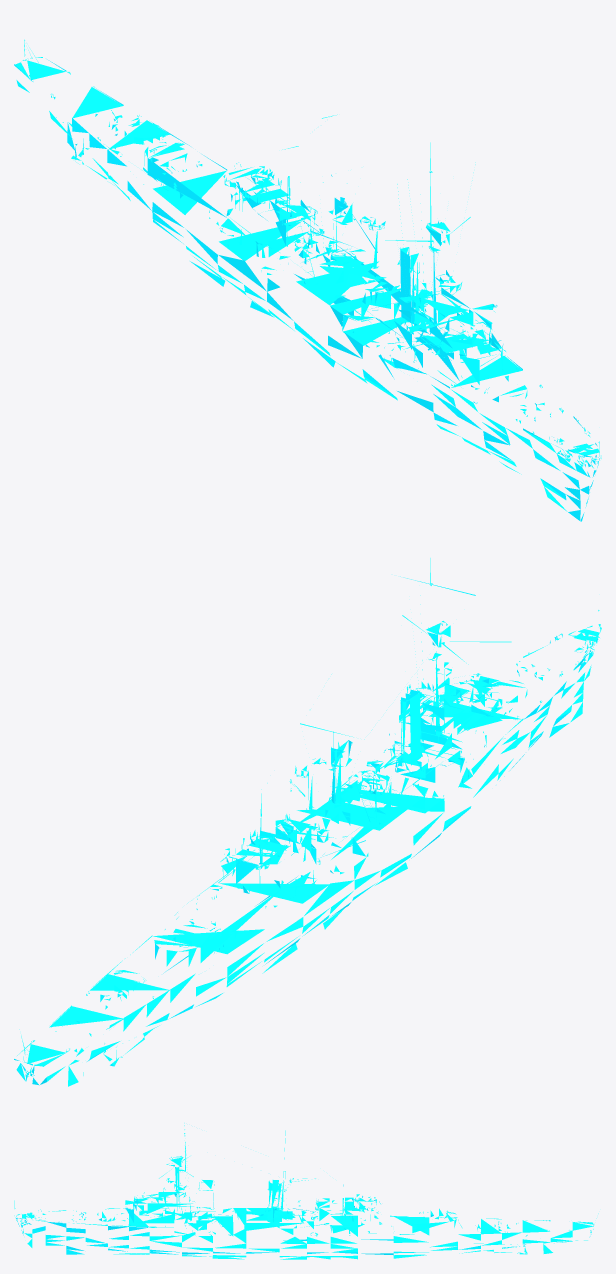
Rendered from Konigsberg.glb.
3 views of the same model, one above another, from view 1: azimuth 30°, elevation 25°; view 2: azimuth 150°, elevation 25°; view 3: azimuth 270°, elevation 25° (orthographic). The views are drawn at different scales.
Size of the model in its own units: 1.28 by 3.07 by 11.77.
